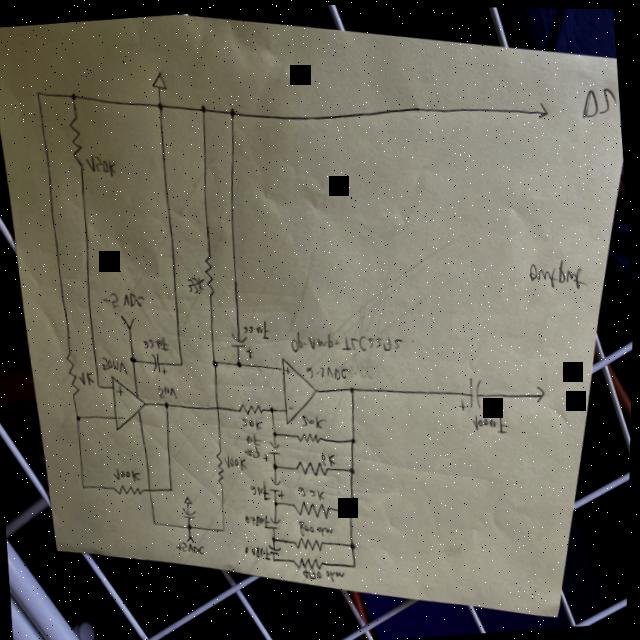capacitor: (457, 375, 485, 412), (230, 330, 254, 360), (263, 439, 283, 462), (269, 475, 287, 500), (152, 350, 168, 376), (270, 514, 283, 529), (182, 507, 198, 519), (270, 542, 284, 555)
crossover: (215, 403, 223, 411), (148, 486, 155, 493)
ground: (149, 70, 169, 91), (185, 496, 195, 505)
junction: (68, 89, 79, 102), (33, 87, 42, 101), (163, 399, 173, 410), (129, 354, 138, 365), (228, 107, 237, 118), (155, 100, 164, 111), (350, 540, 359, 551), (269, 404, 278, 415), (186, 523, 197, 532), (349, 384, 358, 394), (349, 503, 357, 514), (199, 103, 207, 114), (76, 412, 84, 423), (350, 464, 358, 475), (271, 534, 280, 543), (350, 435, 358, 445), (213, 358, 220, 368), (273, 461, 281, 469), (272, 429, 280, 437), (237, 359, 244, 368), (352, 561, 359, 569), (97, 382, 104, 390), (82, 484, 88, 491), (154, 519, 160, 526), (180, 360, 186, 367), (222, 526, 228, 533), (170, 486, 176, 492), (275, 500, 280, 506), (274, 558, 278, 562)
resistor: (66, 113, 86, 169), (294, 498, 333, 521), (295, 458, 334, 479), (202, 252, 219, 298), (65, 351, 81, 398), (296, 535, 328, 554), (296, 554, 327, 571), (115, 481, 145, 498), (214, 449, 228, 484), (239, 401, 267, 417), (297, 429, 325, 445)
terminal: (120, 312, 139, 331), (536, 99, 550, 118), (537, 384, 548, 401), (188, 536, 198, 543)
text: (291, 317, 408, 359), (529, 254, 588, 292), (302, 562, 350, 585), (84, 151, 118, 180), (297, 515, 338, 539), (472, 410, 510, 435), (104, 289, 147, 311), (307, 362, 352, 383), (245, 509, 275, 532), (243, 319, 273, 341), (246, 542, 275, 562), (101, 355, 129, 375), (251, 479, 274, 503), (114, 466, 143, 484), (178, 540, 208, 556), (143, 335, 170, 352), (240, 415, 265, 433), (300, 484, 327, 500), (226, 453, 249, 471), (302, 412, 326, 429), (188, 275, 206, 294), (158, 384, 179, 400), (245, 444, 264, 460), (79, 370, 96, 387), (323, 452, 338, 466), (247, 432, 263, 445), (117, 384, 126, 398), (118, 412, 127, 422), (285, 364, 293, 375), (288, 402, 296, 412)
